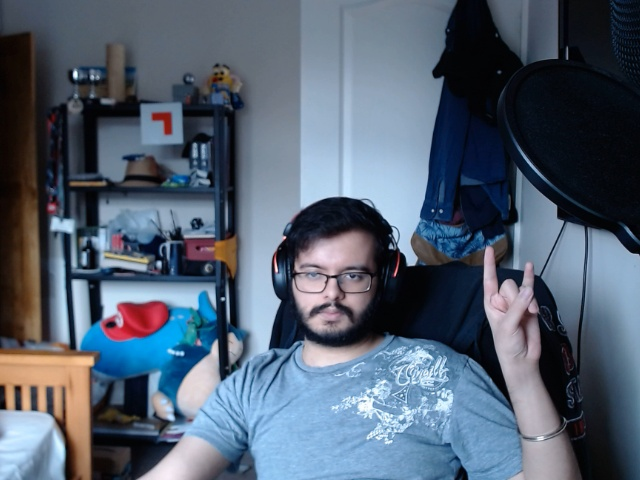Rock on: (479, 232, 544, 372)
